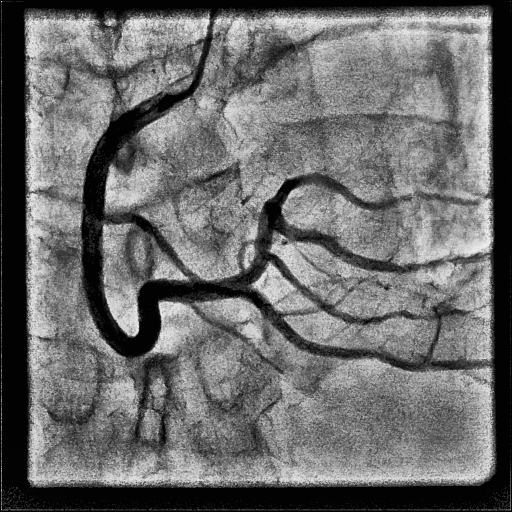pborca: (242, 173, 489, 282)
pda: (244, 289, 495, 373)
rca: (82, 93, 250, 357)
